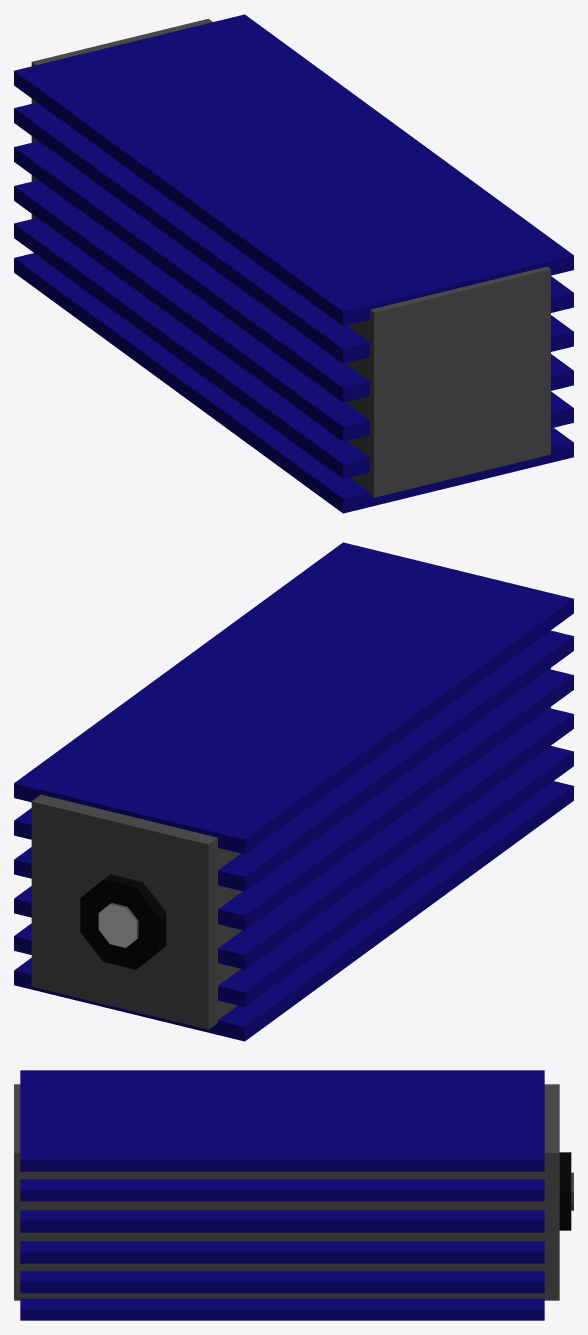
File: dzialo.fbx
The picture shows the model from 3 angles, top to bottom: view 1: azimuth 30°, elevation 25°; view 2: azimuth 150°, elevation 25°; view 3: azimuth 270°, elevation 25°; orthographic projection. The views are drawn at different scales.
Parts seen in each view (by area): view 1: Cube; view 2: Cube; view 3: Cube.
Part boxes in pixels (box(x1,y1,x2,y2)): Cube: box(14, 14, 573, 513); Cube: box(14, 542, 573, 1041); Cube: box(14, 1070, 573, 1320).
Size of the model in its own units: 261 by 218 by 688.
